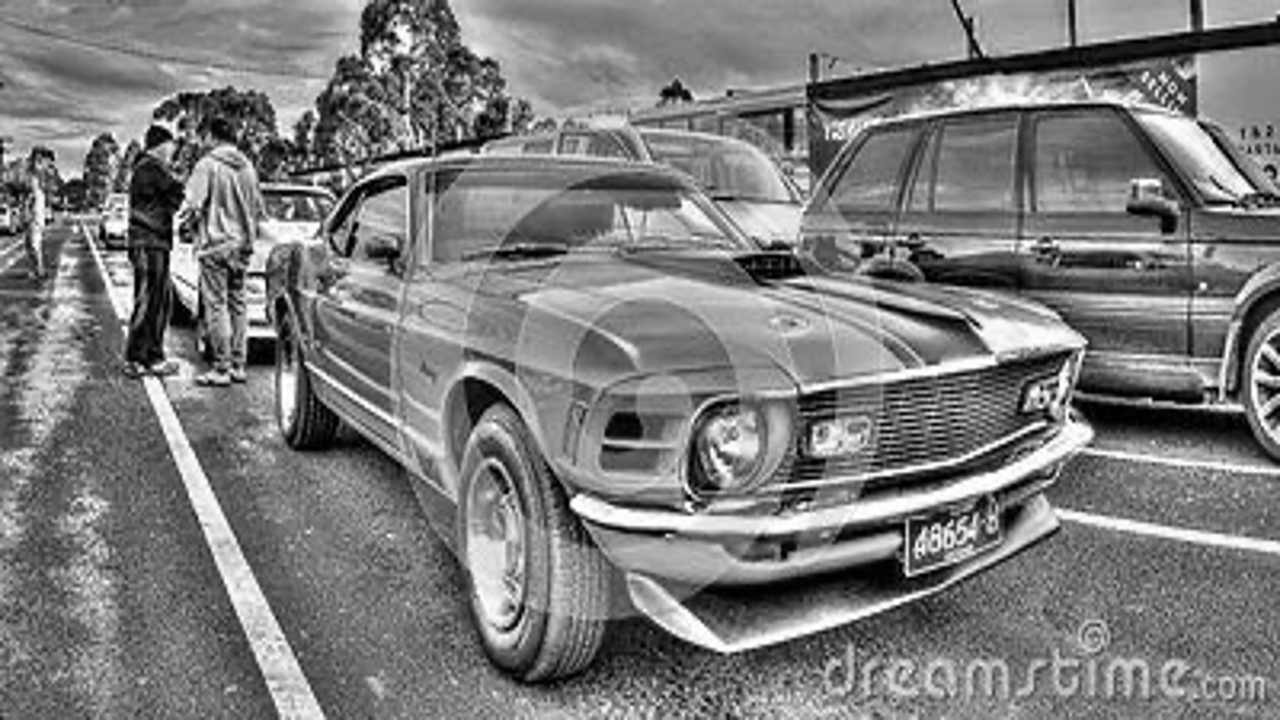license: (898, 483, 1007, 586)
